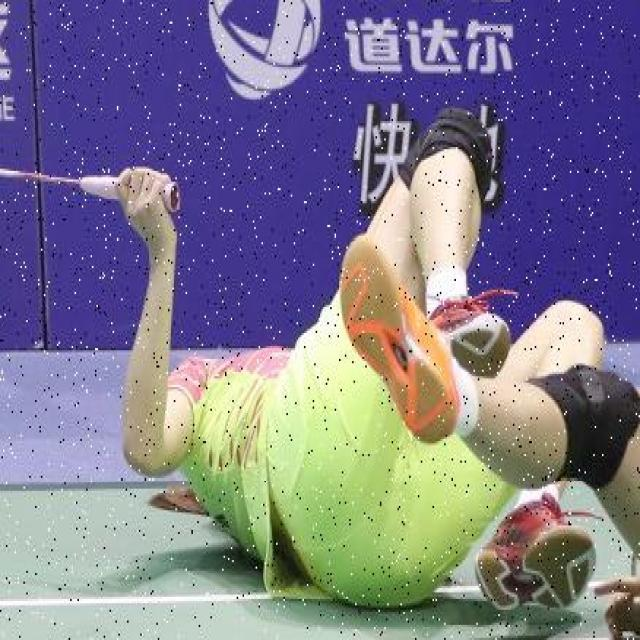fall: (114, 169, 558, 601)
